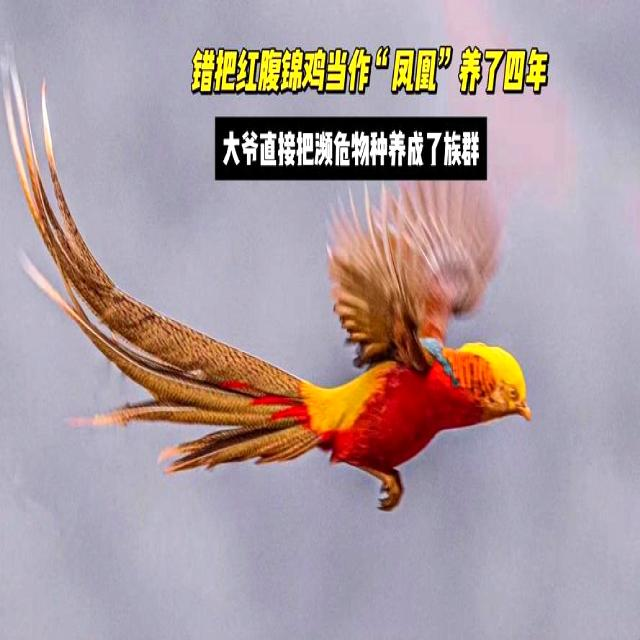Chrysolophus pictus feather: (4, 59, 320, 476)
